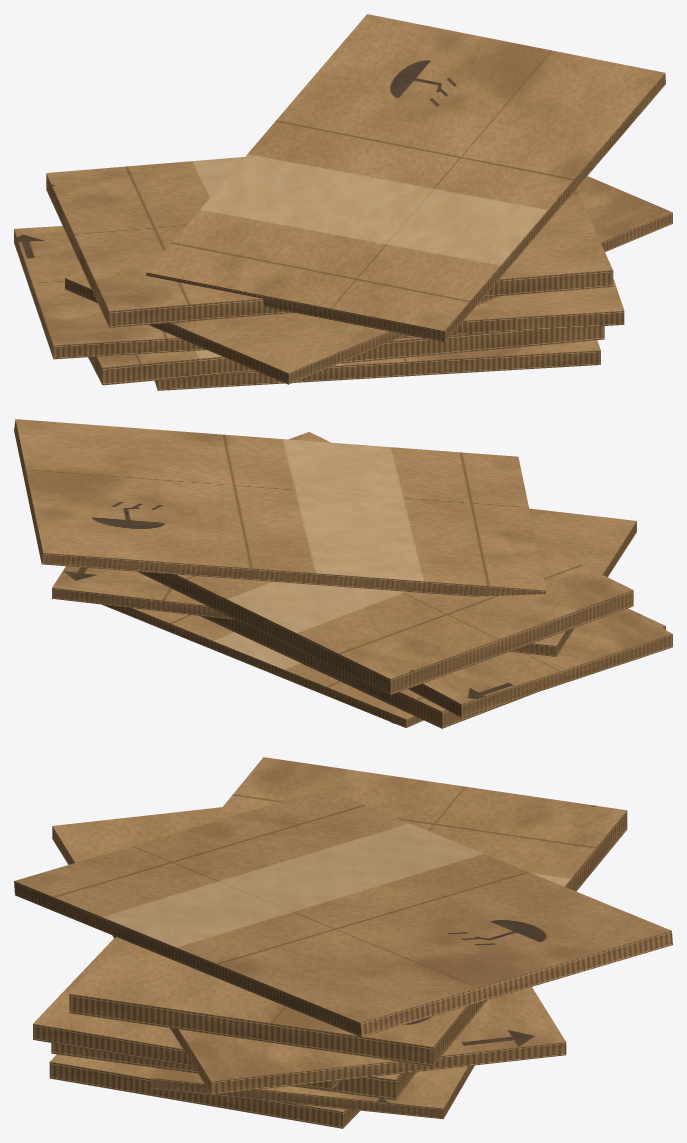
Rendered from cardboard.glb.
3 renders of one model, top to bottom at view 1: azimuth 30°, elevation 25°; view 2: azimuth 150°, elevation 25°; view 3: azimuth 270°, elevation 25°, orthographic. The views are drawn at different scales.
Visible parts, largest first — view 1: cardboard; view 2: cardboard; view 3: cardboard.
Part boxes in pixels (bbox=[...]): cardboard: bbox=[14, 14, 672, 390]; cardboard: bbox=[14, 419, 672, 728]; cardboard: bbox=[14, 757, 672, 1128].
Bounding box in the file's own units: 1.14 × 0.2434 × 0.8664.
1 material, 1 textured.
